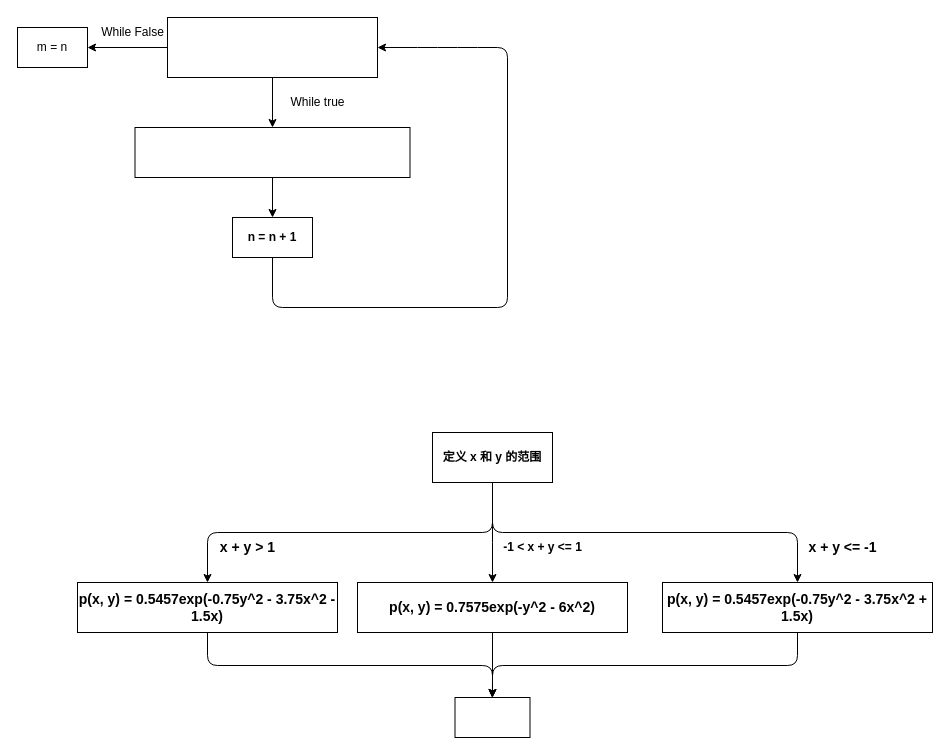
This 950x755 diagram has some shape labels left out. The centre of each missing label's shape, as x and y in pixels:
"PLOT" goes at point 492,717.
"Sum_ln = Sum_ln + ln(n + 1)" goes at point 272,152.
"While Sum_ln < 100" goes at point 272,47.
